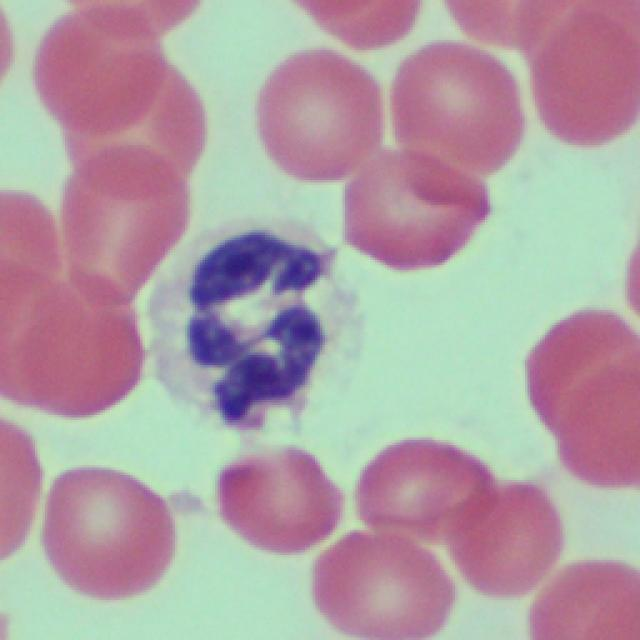RBC: (339, 36, 503, 265), (51, 31, 196, 282), (0, 262, 138, 423), (525, 302, 639, 494), (35, 456, 174, 604), (382, 36, 521, 183), (249, 45, 380, 191), (517, 0, 637, 152), (208, 440, 341, 560), (452, 464, 562, 608), (306, 530, 448, 638), (526, 561, 637, 640), (282, 0, 428, 50), (0, 412, 44, 566)
WBC: (184, 223, 332, 462)
